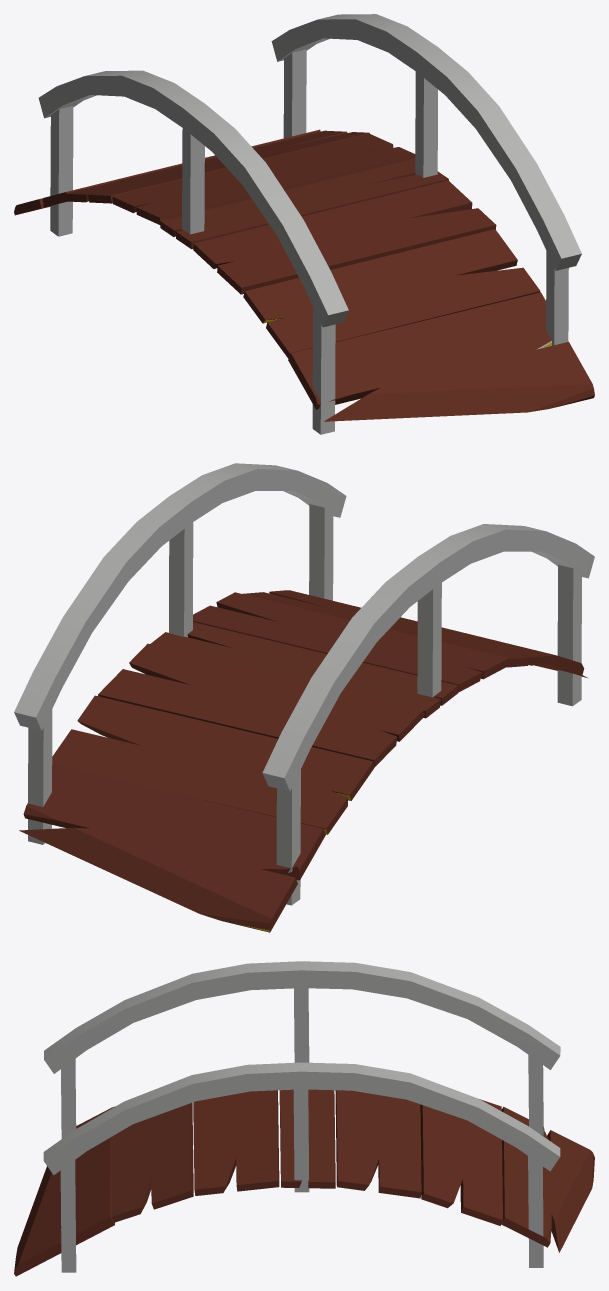
The model's file is bridge.fbx.
3 renders of one model, top to bottom at view 1: azimuth 30°, elevation 25°; view 2: azimuth 150°, elevation 25°; view 3: azimuth 270°, elevation 25°, orthographic. The views are drawn at different scales.
Visible parts, largest first — view 1: Cube.012; view 2: Cube.012; view 3: Cube.012.
Part boxes in pixels (box(x1,y1,x2,y2)): Cube.012: box(14, 14, 594, 434); Cube.012: box(14, 463, 594, 932); Cube.012: box(14, 961, 594, 1276).
Size of the model in its own units: 72.61 by 62.04 by 158.
Materials: 1 (1 with a texture image).
